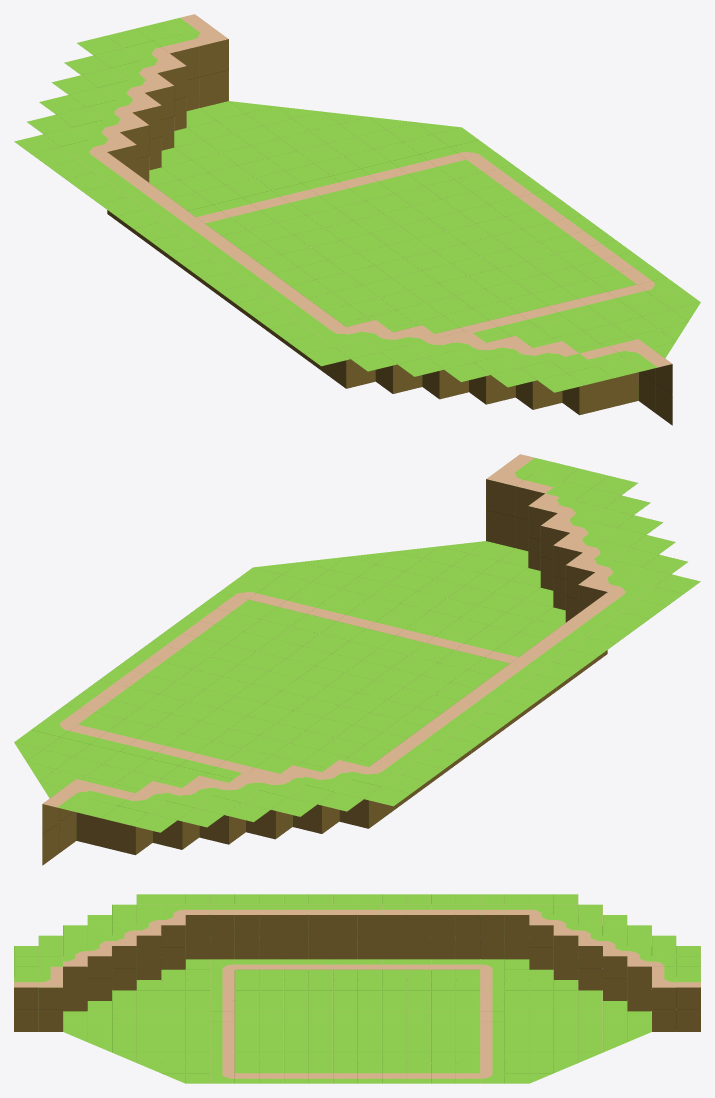
The model's file is Ground3.obj.
3 views of the same model, one above another, from view 1: azimuth 30°, elevation 25°; view 2: azimuth 150°, elevation 25°; view 3: azimuth 270°, elevation 25° (orthographic). The views are drawn at different scales.
Visible parts, largest first — view 1: Cube; view 2: Cube; view 3: Cube.
Part boxes in pixels (x1,y1,x2,y2): Cube: [14, 14, 700, 425]; Cube: [14, 454, 700, 865]; Cube: [14, 894, 700, 1083].
Size of the model in its own units: 14 by 2 by 28.
Materials: 1 (1 with a texture image).
